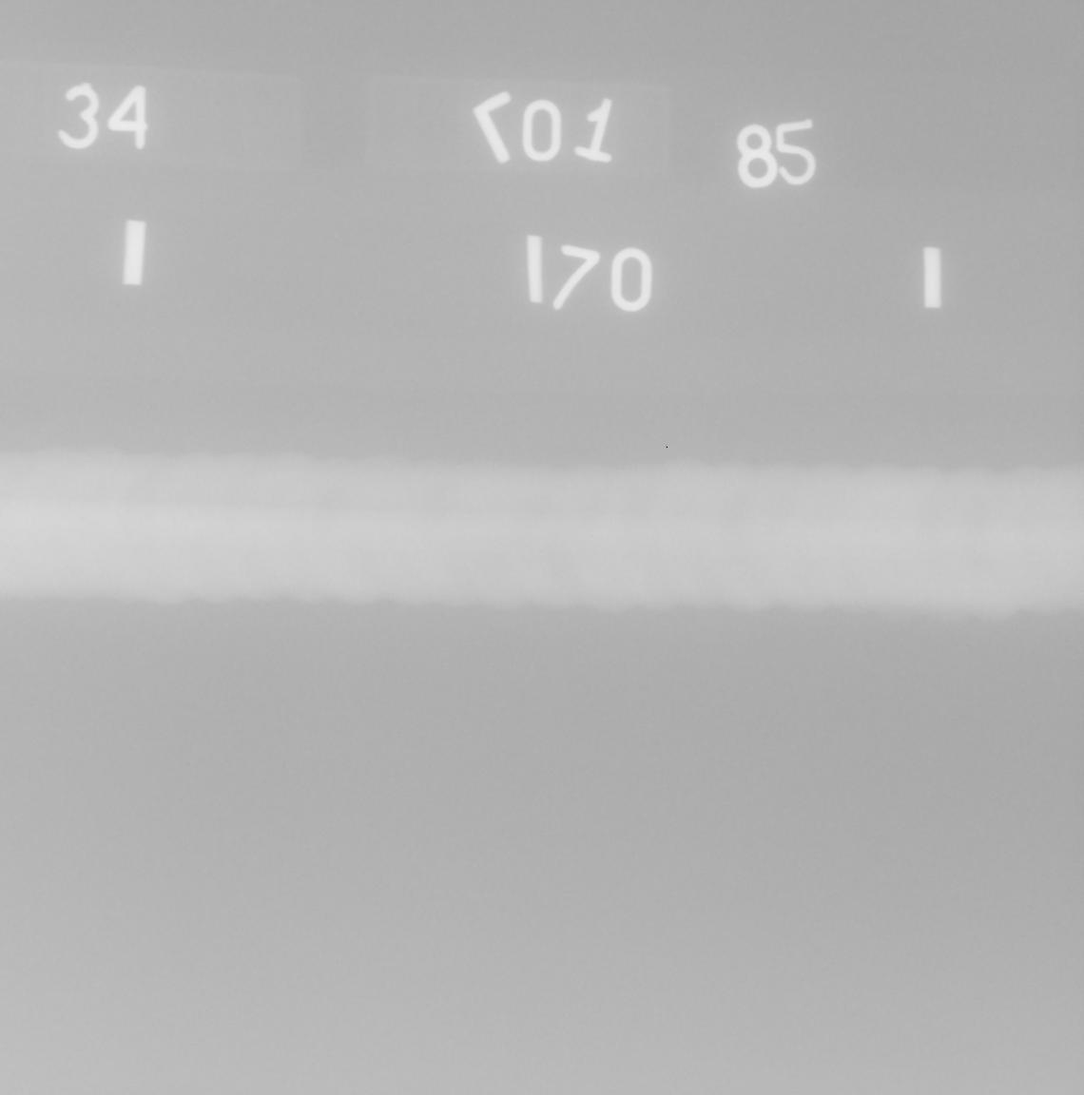Pore/Porosity: (78, 516, 84, 521)
